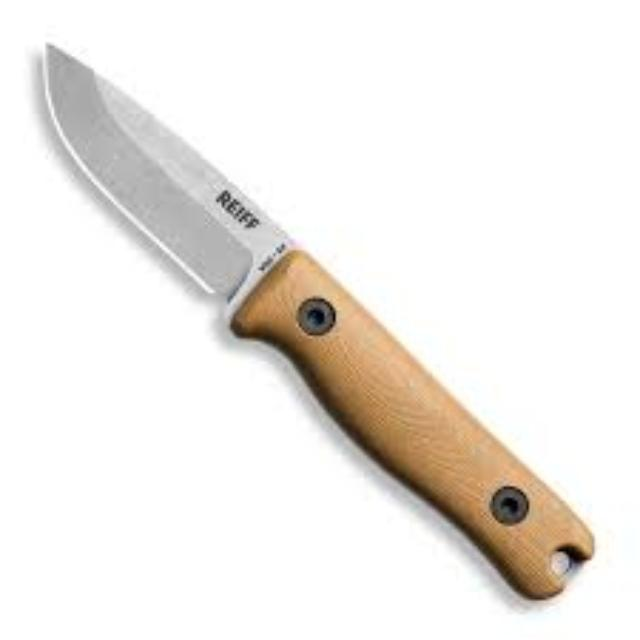knife: (40, 40, 594, 600)
